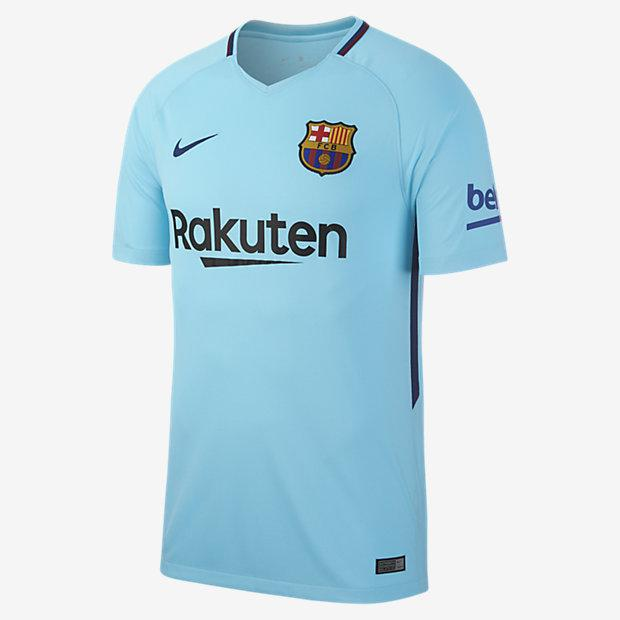teeshirt: (95, 7, 530, 619)
